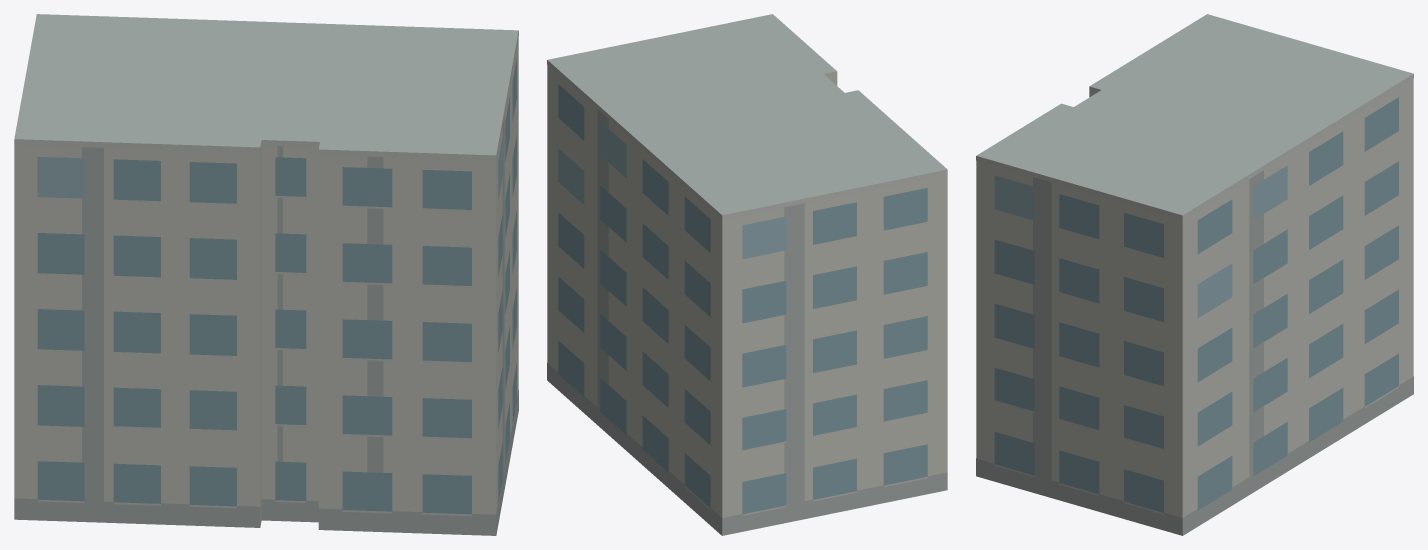
File: survey-upis-32787468.glb
The picture shows the model from 3 angles, left to right: view 1: azimuth 30°, elevation 25°; view 2: azimuth 150°, elevation 25°; view 3: azimuth 270°, elevation 25°; orthographic projection. The views are drawn at different scales.
Parts seen in each view (by area): view 1: survey-upis-32787468.tmp; view 2: survey-upis-32787468.tmp; view 3: survey-upis-32787468.tmp.
Boxes of the visible parts, bbox=[...] form: survey-upis-32787468.tmp: bbox=[14, 14, 518, 535]; survey-upis-32787468.tmp: bbox=[547, 14, 947, 535]; survey-upis-32787468.tmp: bbox=[976, 14, 1413, 535].
Bounding box in the file's own units: 22.24 × 16.5 × 20.43.
